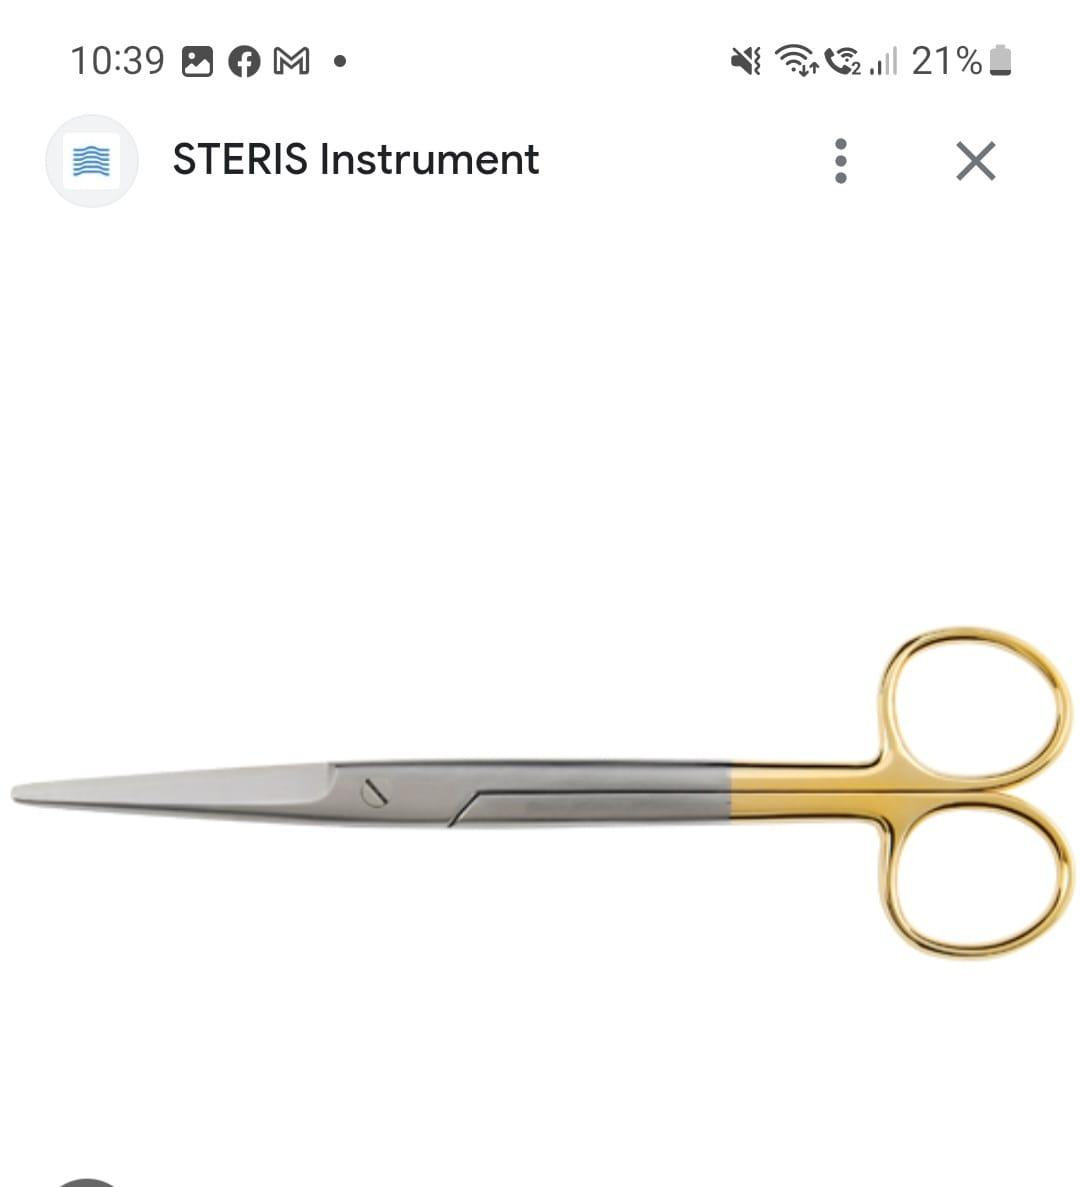Straight Mayo: (6, 621, 1074, 969)
